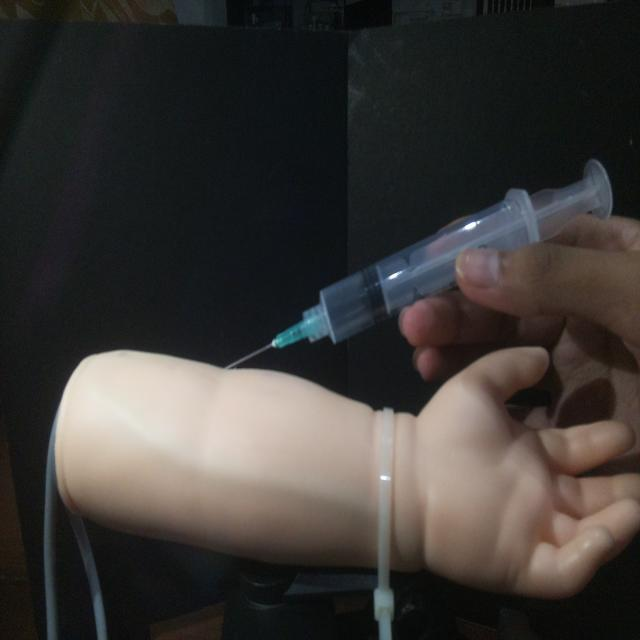21deg: (220, 152, 616, 372)
